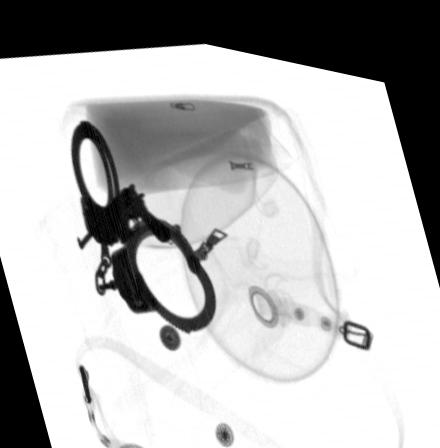Gun: (72, 175, 179, 251)
HandCuffs: (69, 110, 219, 327)
